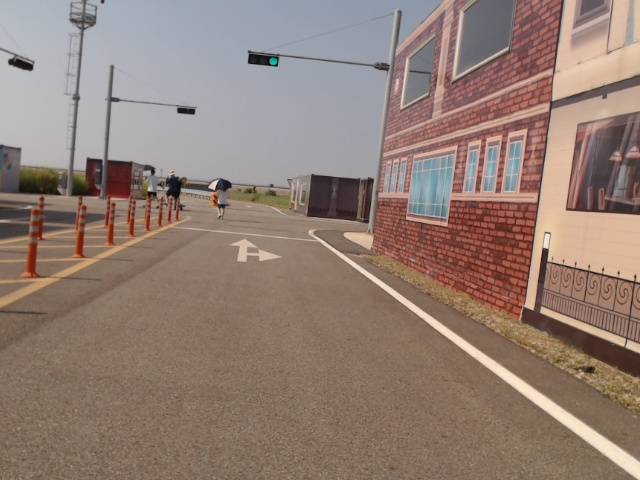green_3: (249, 54, 278, 67)
